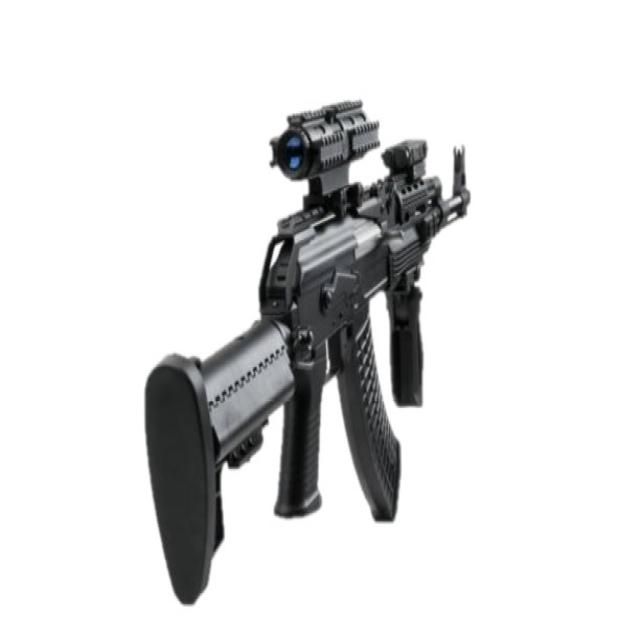rifle: (142, 93, 475, 612)
